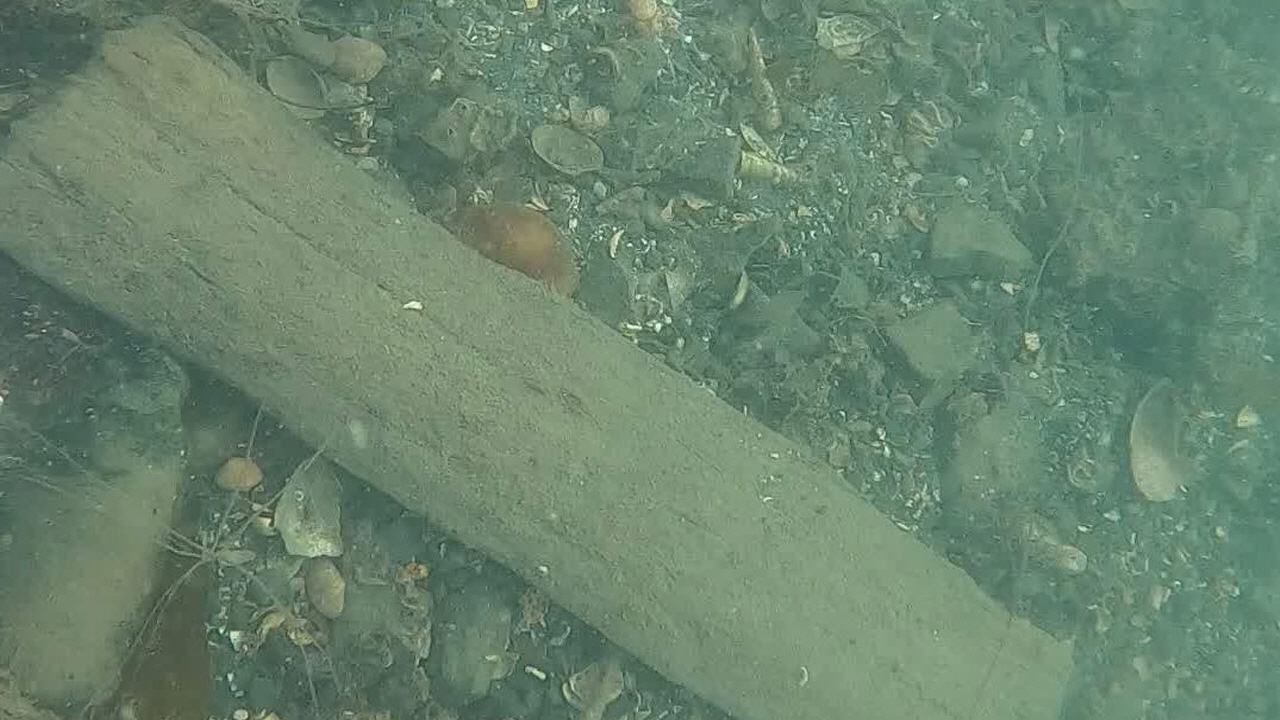wood: (0, 13, 1075, 718)
